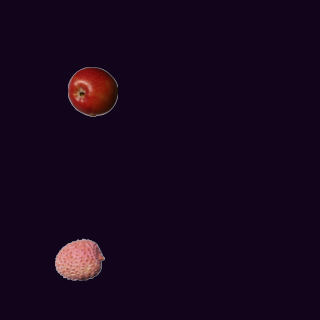Apple Braeburn: (67, 66, 117, 116)
Lychee: (54, 234, 104, 284)
